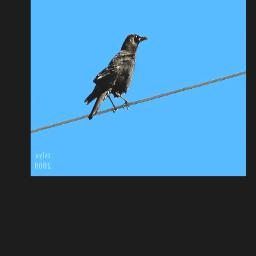Crow: (83, 32, 150, 120)
